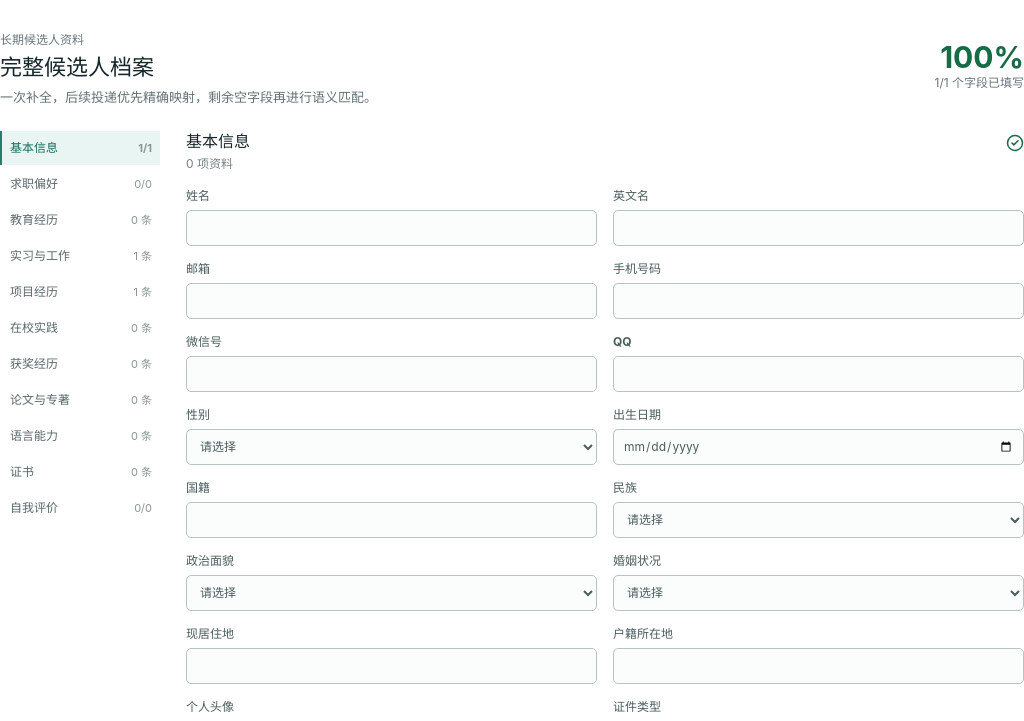
Scenario: CandidateProfileCenter › keeps project highlights and work responsibilities as user-authored fields
Click the button "项目经历 1 条".
click(80, 292)  # box x1=0 y1=275 x2=160 y2=309
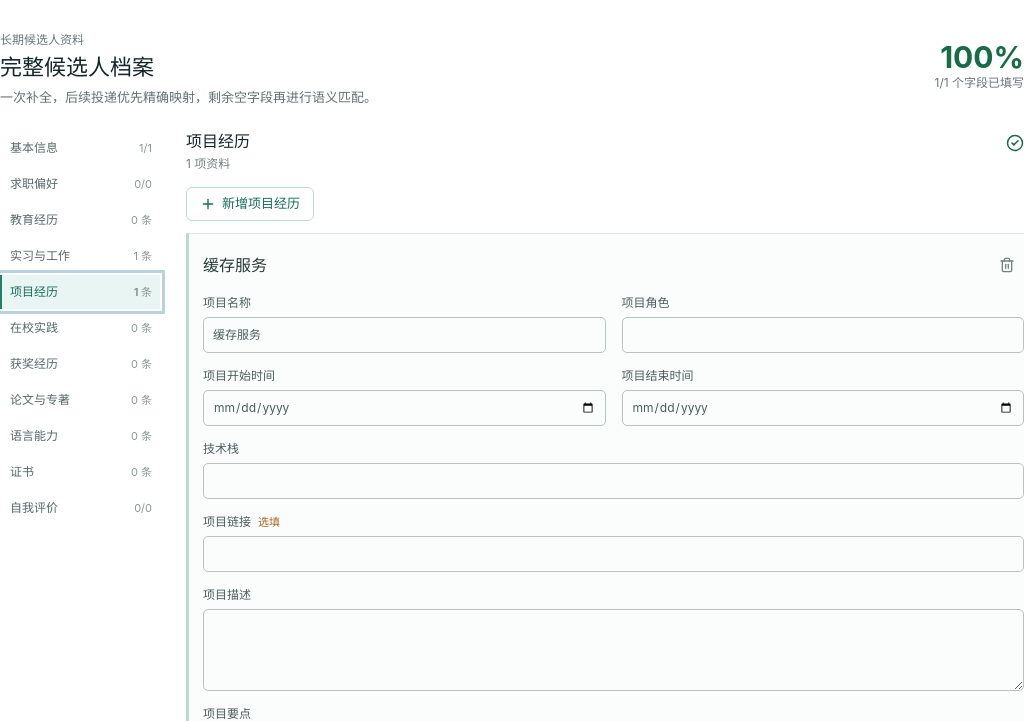
Click the button "实习与工作 1 条".
click(80, 256)  # box x1=0 y1=239 x2=160 y2=273
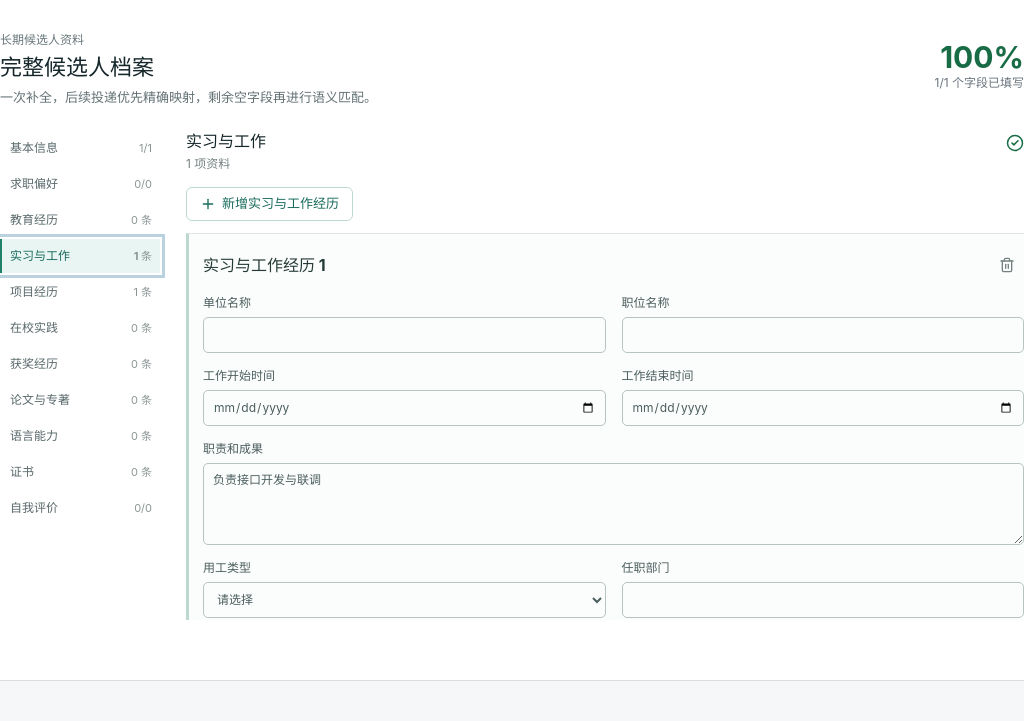
Expected: the text box labelled "职责和成果" holds "负责接口开发与联调", x1=203 y1=463 x2=1023 y2=545
